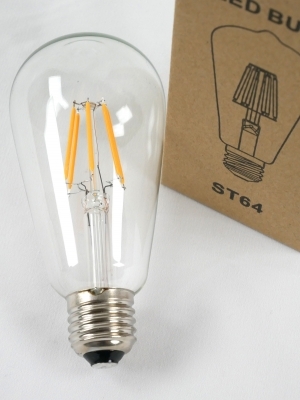Light_bulb: (5, 28, 172, 377)
